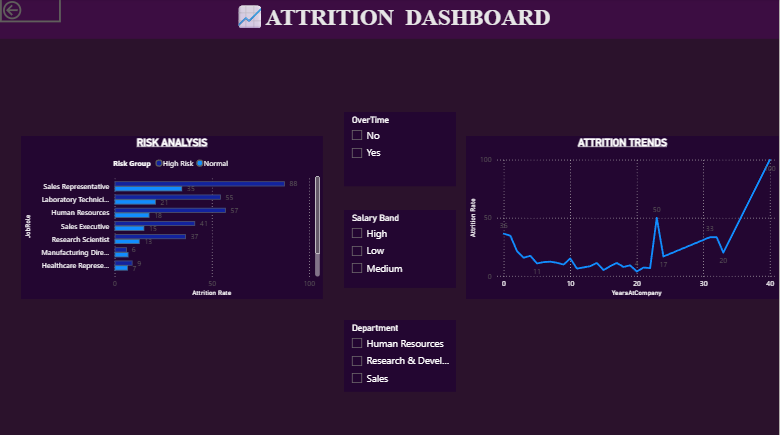

This screenshot's page, from the dashboard's own definition file:
{"tool":"powerbi","page":{"name":"Page 5","canvas":[1280,720],"ordinal":4},"visuals":[{"type":"textbox","box":[0,0,1280,67.2],"z":0},{"type":"actionButton","box":[0,0,100,40],"z":1000},{"type":"actionButton","box":[0,0,100,40],"z":2000},{"type":"slicer","fields":{"Values":["IBM HR xls.Department"]},"box":[565.2,529.1,184,118.3],"z":3000},{"type":"slicer","fields":{"Values":["IBM HR xls.Salary Band"]},"box":[565.2,348.3,184,128.2],"z":4000},{"type":"slicer","fields":{"Values":["IBM HR xls.OverTime"]},"box":[565.2,187.3,184,121.6],"z":5000},{"type":"lineChart","title":"ATTRITION TRENDS","fields":{"Category":["IBM HR xls.YearsAtCompany"],"Y":["IBM HR xls.Attrition Rate"]},"box":[765.7,226.8,514.3,267.8],"z":6000},{"type":"clusteredBarChart","title":"RISK ANALYSIS","fields":{"Category":["IBM HR xls.JobRole"],"Y":["IBM HR xls.Attrition Rate"],"Series":["IBM HR xls.Risk Group"]},"box":[34.5,226.8,496.2,267.8],"z":7000}]}

Visuals, with their boxes in screenshot pixels (x1, y1, x2, y2), scaled from the page's 1280x720 canvas onto the 780x435 screenshot:
textbox: (x1=0, y1=0, x2=779, y2=41)
actionButton: (x1=0, y1=0, x2=61, y2=24)
actionButton: (x1=0, y1=0, x2=61, y2=24)
slicer - IBM HR xls.Department: (x1=344, y1=320, x2=457, y2=391)
slicer - IBM HR xls.Salary Band: (x1=344, y1=210, x2=457, y2=288)
slicer - IBM HR xls.OverTime: (x1=344, y1=113, x2=457, y2=187)
"ATTRITION TRENDS" lineChart: (x1=467, y1=137, x2=779, y2=299)
"RISK ANALYSIS" clusteredBarChart: (x1=21, y1=137, x2=323, y2=299)
